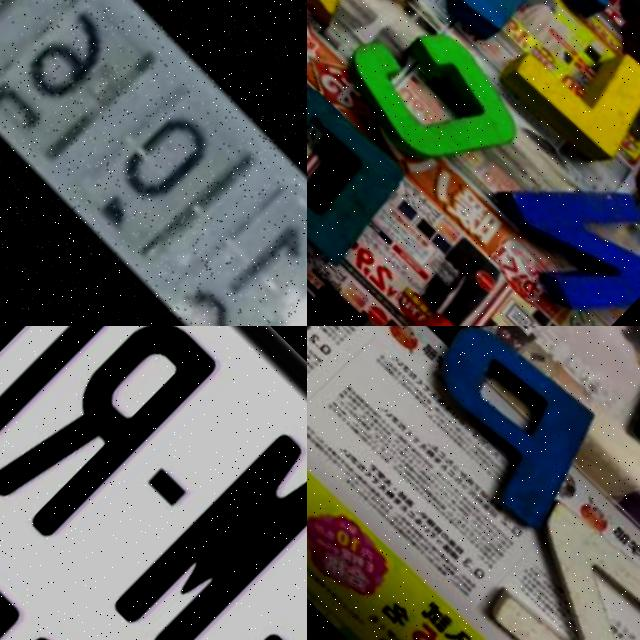0: (0, 326, 147, 478), (98, 102, 230, 234)
1: (205, 204, 307, 326)
4: (183, 518, 307, 640)
6: (9, 1, 137, 127)
C: (327, 0, 532, 199)
D: (307, 59, 419, 275)
G: (598, 0, 640, 140)
L: (486, 0, 640, 188)
M: (99, 428, 307, 640)
N: (465, 125, 640, 326)
P: (385, 326, 622, 547)
R: (0, 326, 226, 550)
U: (610, 103, 640, 251)
V: (394, 0, 569, 55)
W: (313, 292, 528, 326)
Z: (457, 484, 640, 640)
